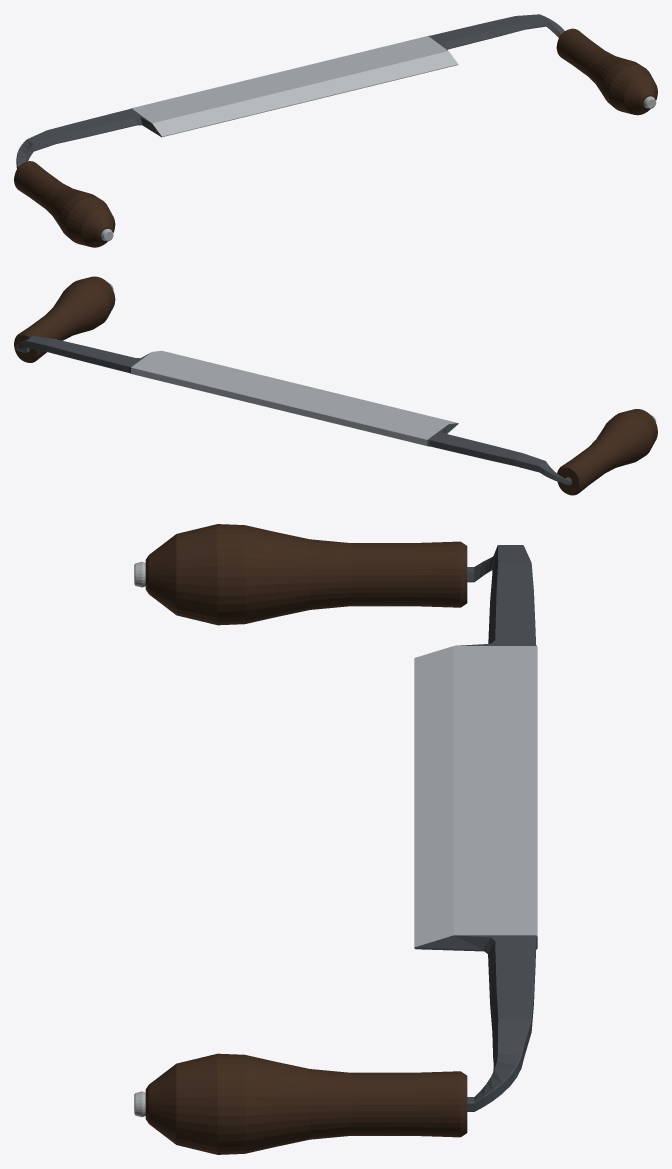
The picture shows the model from 3 angles, top to bottom: view 1: azimuth 30°, elevation 25°; view 2: azimuth 150°, elevation 25°; view 3: azimuth 270°, elevation 25°; orthographic projection. The views are drawn at different scales.
Visible parts, largest first — view 1: Continuous_steel_blade_arms_and_seated_tangs, Right_pear_wood_grip_with_through_bore, Left_pear_wood_grip_with_through_bore; view 2: Continuous_steel_blade_arms_and_seated_tangs, Left_pear_wood_grip_with_through_bore, Right_pear_wood_grip_with_through_bore; view 3: Continuous_steel_blade_arms_and_seated_tangs, Left_pear_wood_grip_with_through_bore, Right_pear_wood_grip_with_through_bore.
Part boxes in pixels (x1,y1,x2,y2): Continuous_steel_blade_arms_and_seated_tangs: (16, 14, 564, 168); Right_pear_wood_grip_with_through_bore: (556, 28, 657, 115); Left_pear_wood_grip_with_through_bore: (14, 161, 115, 247); Continuous_steel_blade_arms_and_seated_tangs: (16, 336, 572, 485); Left_pear_wood_grip_with_through_bore: (557, 409, 657, 495); Right_pear_wood_grip_with_through_bore: (14, 276, 115, 362); Continuous_steel_blade_arms_and_seated_tangs: (414, 545, 537, 1111); Left_pear_wood_grip_with_through_bore: (145, 524, 467, 625); Right_pear_wood_grip_with_through_bore: (145, 1053, 467, 1154).
Size of the model in its own units: 0.3956 by 0.0306 by 0.1178.
